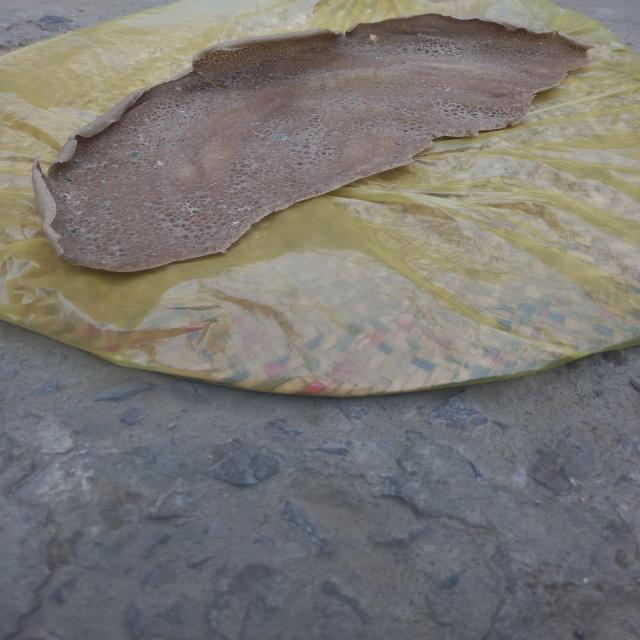injera_mold: (58, 189, 88, 203), (179, 202, 203, 216), (228, 205, 255, 215), (125, 151, 145, 159), (136, 134, 150, 145), (67, 227, 84, 235), (100, 200, 112, 207), (253, 132, 266, 138), (233, 81, 244, 88), (275, 134, 287, 140), (64, 175, 74, 182), (156, 160, 164, 166), (66, 216, 75, 220), (73, 158, 81, 162), (175, 86, 183, 90), (375, 56, 383, 60), (250, 122, 260, 125), (170, 142, 177, 146), (232, 221, 241, 224), (64, 254, 73, 257), (210, 182, 218, 185), (180, 154, 184, 158), (216, 157, 224, 159), (101, 261, 106, 264), (180, 110, 185, 113), (266, 143, 270, 146), (154, 165, 156, 168)
